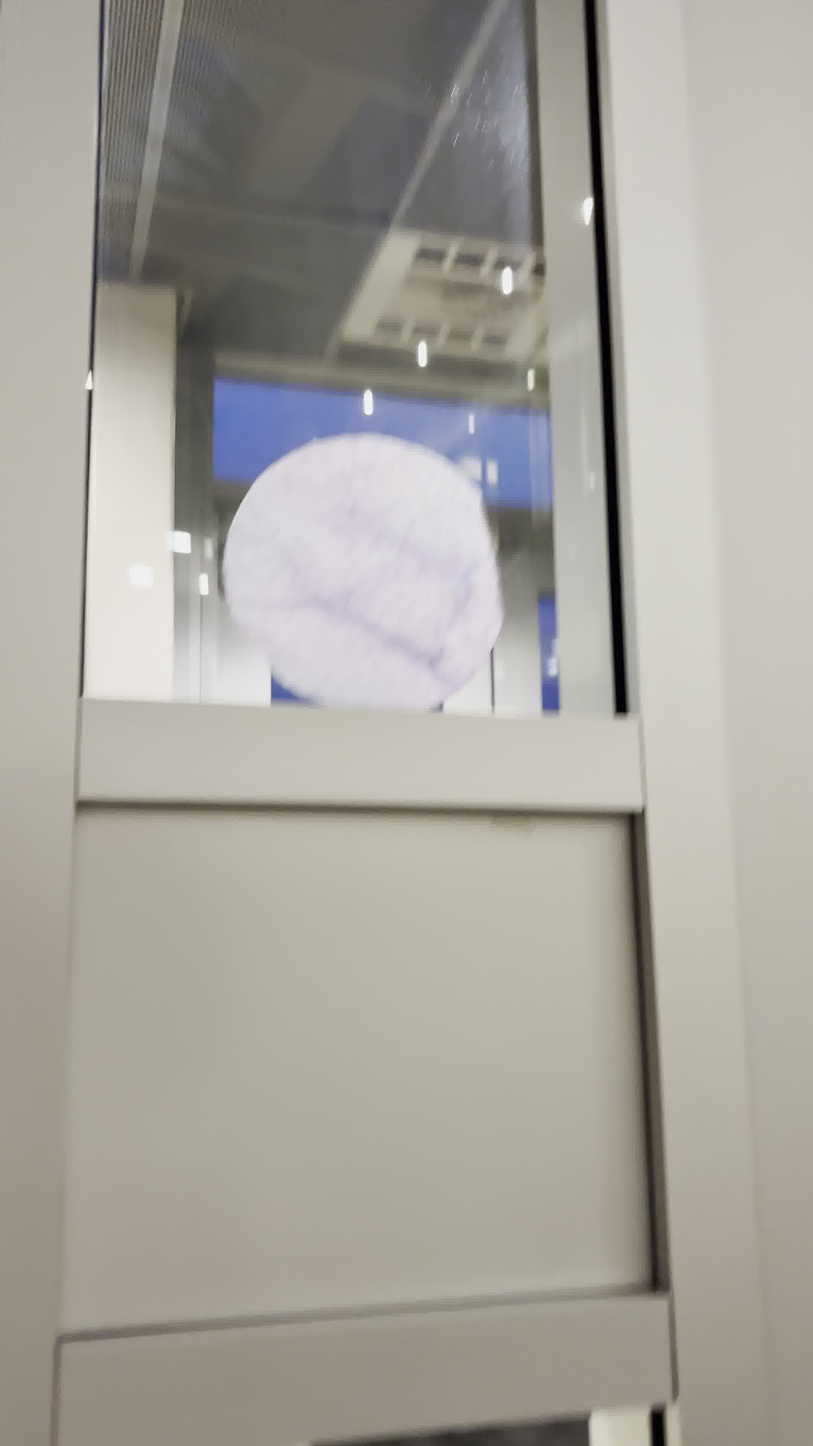Target: (217, 432, 511, 720)
